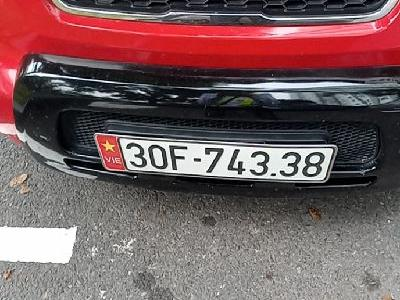lisence: (94, 132, 337, 184)
